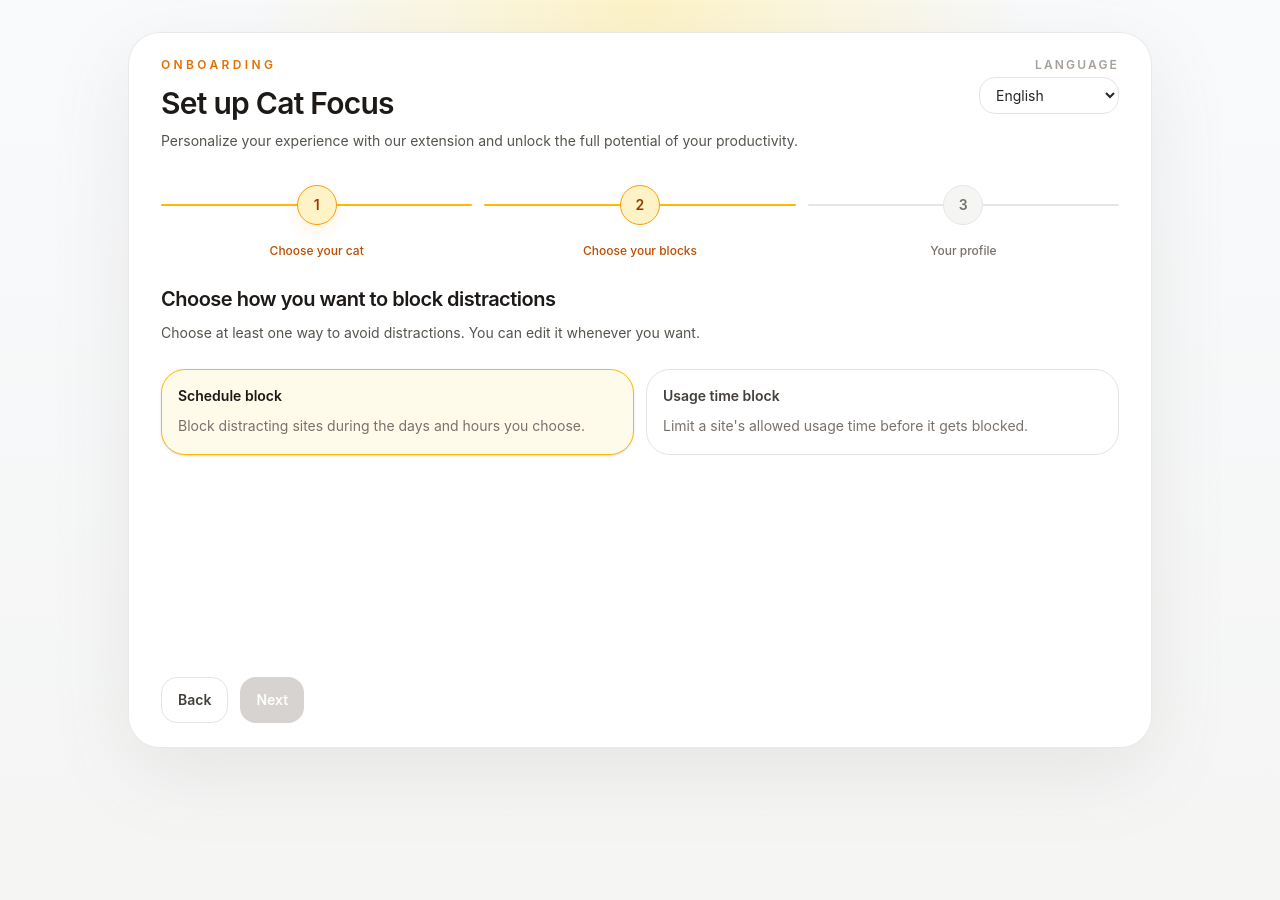
Test case: onboarding flow › allows returning to a reachable previous onboarding step from the stepper
Click the button named "Choose your cat": {"x": 317, "y": 205} [297,185,337,225]
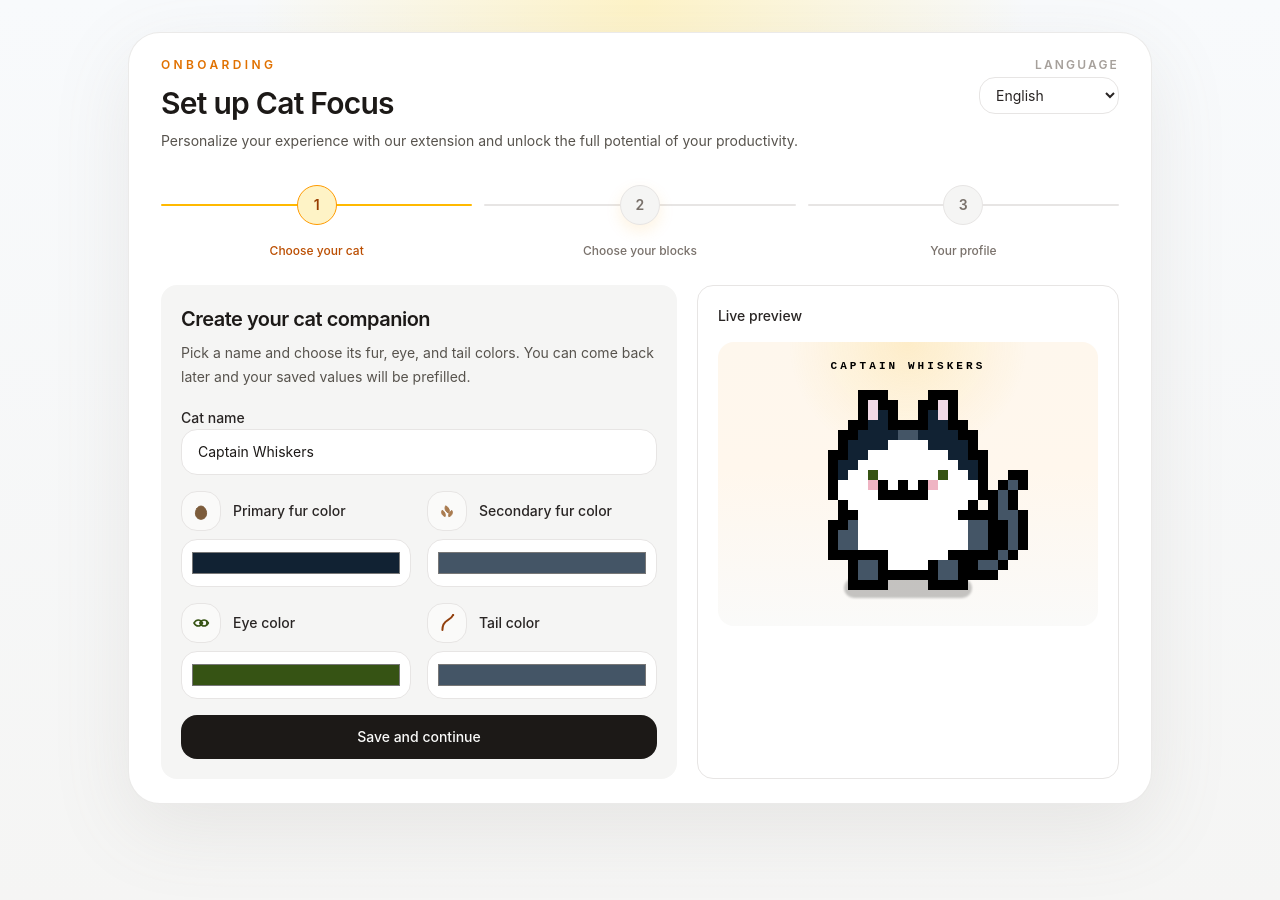
Now the button "Save and continue" is shown, box [181,715,657,759]
